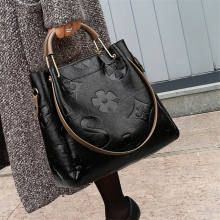cuero: (29, 40, 179, 187)
